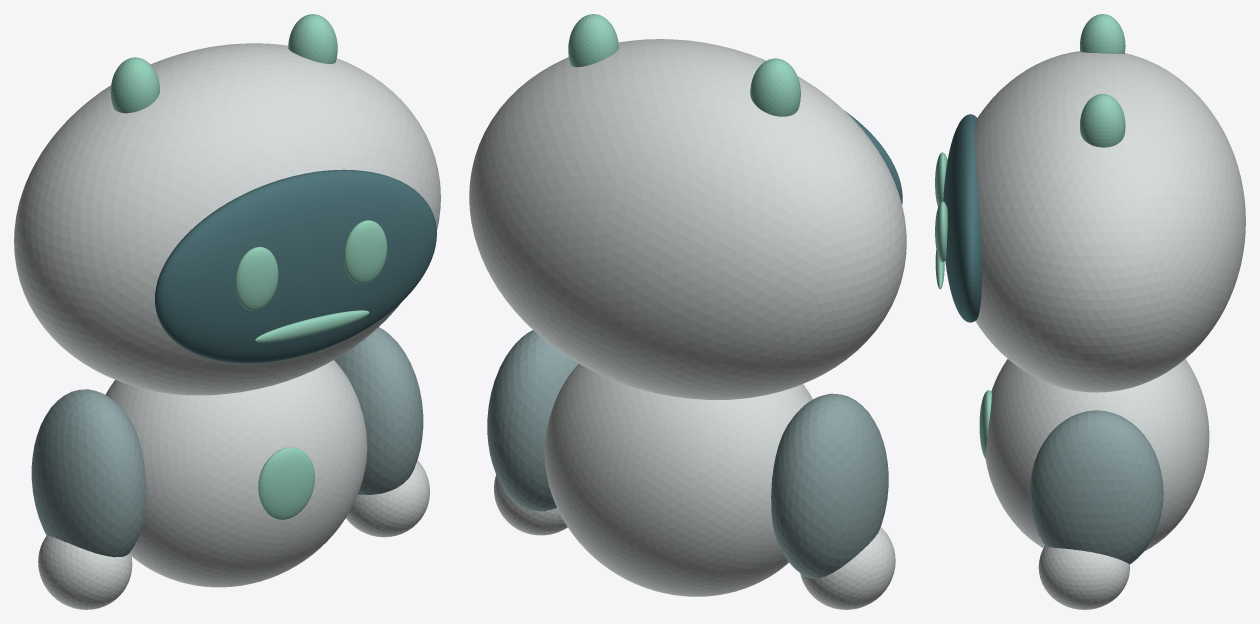
The model's file is nutrix-robot.glb.
The picture shows the model from 3 angles, left to right: view 1: azimuth 30°, elevation 25°; view 2: azimuth 150°, elevation 25°; view 3: azimuth 270°, elevation 25°; orthographic projection. The views are drawn at different scales.
Parts seen in each view (by area): view 1: Pearl head, Pearl body, Visor, Left arm, Right arm, Left hand, Right hand, Mint emblem, Right eye, Left eye, Left antenna, Right antenna (+1 smaller); view 2: Pearl head, Pearl body, Left arm, Right arm, Left hand, Left antenna, Right antenna, Right hand; view 3: Pearl head, Pearl body, Right arm, Visor, Right hand, Right antenna, Left antenna, Right eye, Mint emblem, Left eye.
Part boxes in pixels (x1,y1,x2,y2): Pearl head: (14,43,440,395); Pearl body: (105,360,367,587); Visor: (155,169,436,363); Left arm: (31,389,146,557); Right arm: (334,327,423,494); Left hand: (38,535,132,609); Right hand: (346,460,429,537); Mint emblem: (258,447,314,519); Right eye: (343,220,387,284); Left eye: (234,247,278,310); Left antenna: (110,57,159,113); Right antenna: (288,14,337,63); Pearl head: (469,39,906,399); Pearl body: (544,364,812,596); Left arm: (771,393,888,578); Right arm: (487,330,578,511); Left hand: (800,527,895,609); Left antenna: (750,58,800,116); Right antenna: (568,14,618,67); Right hand: (494,475,567,535); Pearl head: (974,51,1245,392); Pearl body: (985,359,1209,551); Right arm: (1029,410,1163,564); Visor: (943,114,981,322); Right hand: (1038,546,1129,609); Right antenna: (1080,94,1125,147); Left antenna: (1080,14,1125,53); Right eye: (935,201,947,262); Mint emblem: (979,390,991,458); Left eye: (935,152,947,206).
Bounding box in the file's own units: 1.38 × 1.79 × 1.02.
